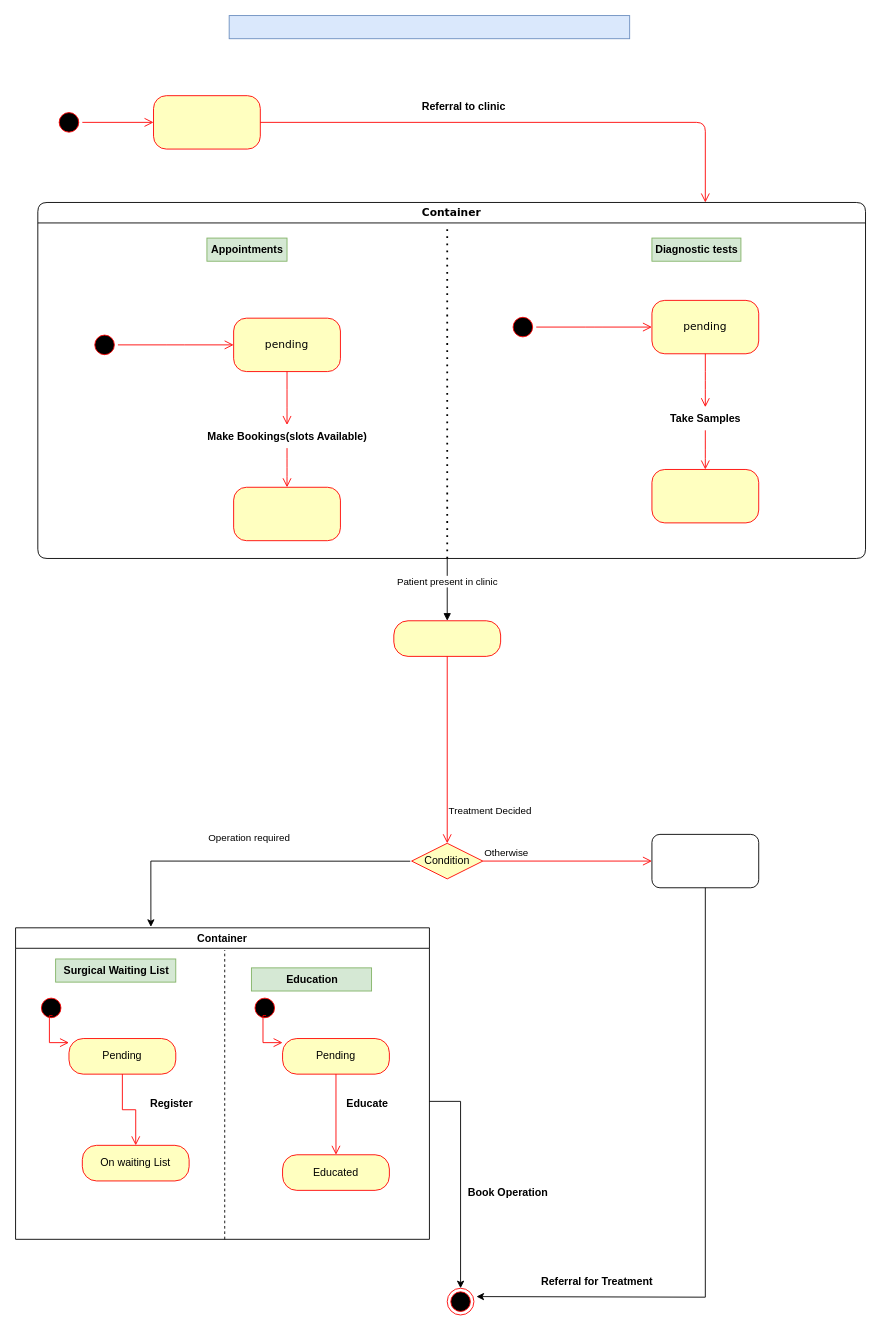
This 881x1331 diagram has some shape labels left out. Each missing label, with the centre of its shape:
"At consultation" belongs at (447,638).
"Booked" belongs at (286,513).
"Samples Taken" belongs at (705,496).
"State Diagram - Patient at Surgical Consultation at OutPatient Clinic" belongs at (429,27).
"Waiting for medical Treatment" belongs at (705,860).
"Waiting for referral to clinic" belongs at (206,122).
